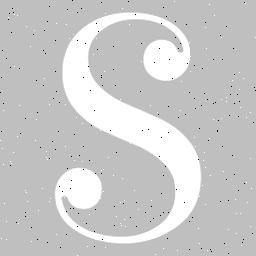s: (50, 6, 208, 250)
